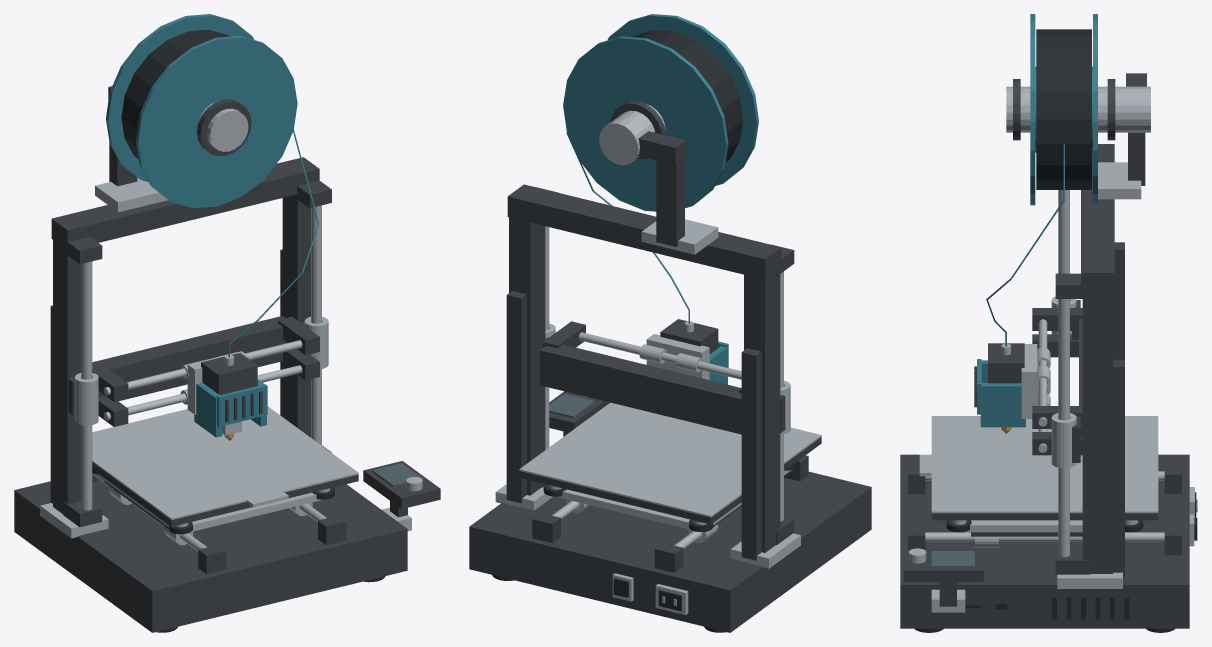
3 views of the same model, side by side, from view 1: azimuth 30°, elevation 25°; view 2: azimuth 150°, elevation 25°; view 3: azimuth 270°, elevation 25° (orthographic). The views are drawn at different scales.
Parts seen in each view (by area): view 1: Base_electronics_closed, Spool_flange, Removable_build_surface, Upright, Gantry_top_beam, Z_crossbeam_enclosed_drive, Upright.001, Spool_flange.001, Wound_filament, Z_guide_rod, Z_guide_rod.001, Extruder_upper_body (+26 smaller); view 2: Base_electronics_closed, Spool_flange.001, Removable_build_surface, Z_crossbeam_enclosed_drive, Gantry_top_beam, Upright, Upright.001, Upright_rear_rib, Upright_rear_rib.001, Spool_flange, Wound_filament, Spool_upright (+18 smaller); view 3: Base_electronics_closed, Removable_build_surface, Wound_filament, Upright.001, Gantry_top_beam, Spool_axle, Upright_rear_rib.001, Z_guide_rod.001, Shroud_right, Display_housing, Spool_support_foot, Heated_plate_enclosure (+29 smaller).
Part boxes in pixels (box(x1,y1,x2,y2)): Base_electronics_closed: box(14, 480, 407, 632); Spool_flange: box(135, 36, 297, 208); Removable_build_surface: box(92, 406, 358, 519); Upright: box(53, 240, 81, 513); Gantry_top_beam: box(51, 157, 319, 249); Z_crossbeam_enclosed_drive: box(92, 316, 286, 401); Upright.001: box(282, 195, 310, 437); Spool_flange.001: box(106, 14, 254, 181); Wound_filament: box(121, 29, 229, 158); Z_guide_rod: box(81, 261, 92, 510); Z_guide_rod.001: box(311, 205, 321, 445); Extruder_upper_body: box(201, 353, 257, 394); Base_electronics_closed: box(469, 471, 871, 632); Spool_flange.001: box(563, 36, 728, 211); Removable_build_surface: box(519, 402, 821, 517); Z_crossbeam_enclosed_drive: box(540, 344, 741, 434); Gantry_top_beam: box(507, 184, 781, 279); Upright: box(744, 272, 780, 552); Upright.001: box(509, 217, 545, 495); Upright_rear_rib: box(741, 348, 761, 560); Upright_rear_rib.001: box(506, 291, 526, 503); Spool_flange: box(607, 14, 758, 185); Wound_filament: box(632, 30, 743, 162); Spool_upright: box(656, 146, 684, 246); Base_electronics_closed: box(900, 454, 1189, 628); Removable_build_surface: box(931, 416, 1158, 513); Wound_filament: box(1036, 29, 1091, 189); Upright.001: box(1082, 294, 1113, 573); Gantry_top_beam: box(1081, 144, 1114, 293); Spool_axle: box(1006, 86, 1150, 132); Upright_rear_rib.001: box(1113, 359, 1124, 576); Z_guide_rod.001: box(1058, 299, 1069, 557); Shroud_right: box(980, 383, 1025, 427); Display_housing: box(903, 550, 983, 581); Spool_support_foot: box(1098, 162, 1141, 199); Heated_plate_enclosure: box(931, 513, 1158, 520).
Bounding box in the file's own units: 0.371 × 0.63 × 0.3085.
